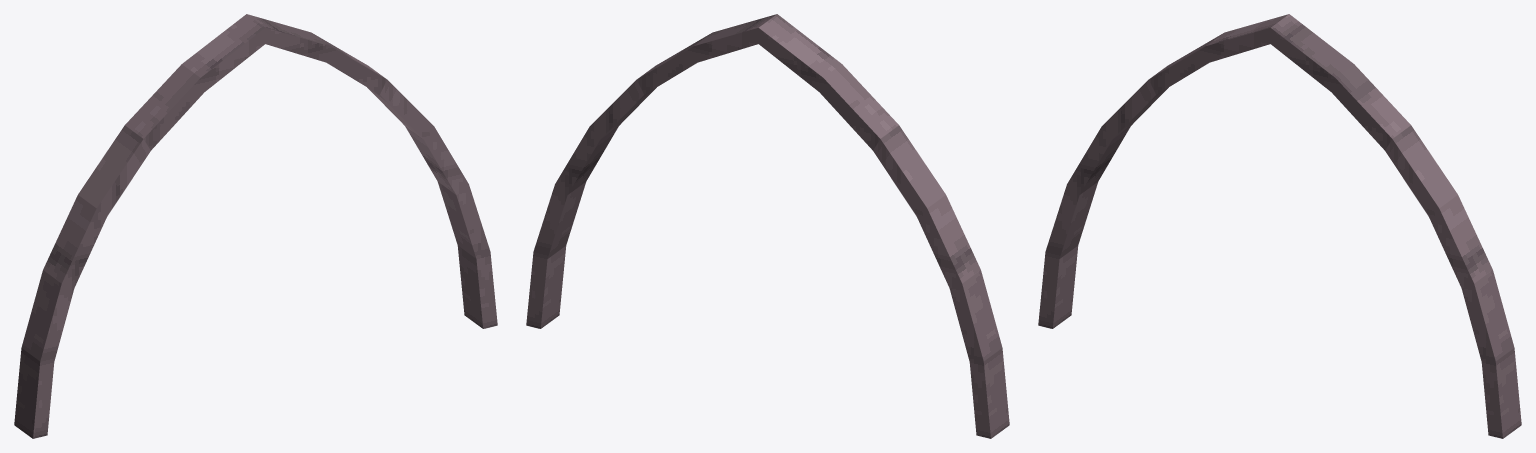
File: portcullis_guide_b.glb
The picture shows the model from 3 angles, left to right: view 1: azimuth 30°, elevation 25°; view 2: azimuth 150°, elevation 25°; view 3: azimuth 330°, elevation 25°; orthographic projection.
Parts seen in each view (by area): view 1: guide; view 2: guide; view 3: guide.
Boxes of the visible parts, x1=… form: guide: x1=14, y1=14, x2=497, y2=438; guide: x1=526, y1=14, x2=1009, y2=438; guide: x1=1038, y1=14, x2=1521, y2=438.
Bounding box in the file's own units: 2 × 1.46 × 0.14.
1 material, 1 textured.
